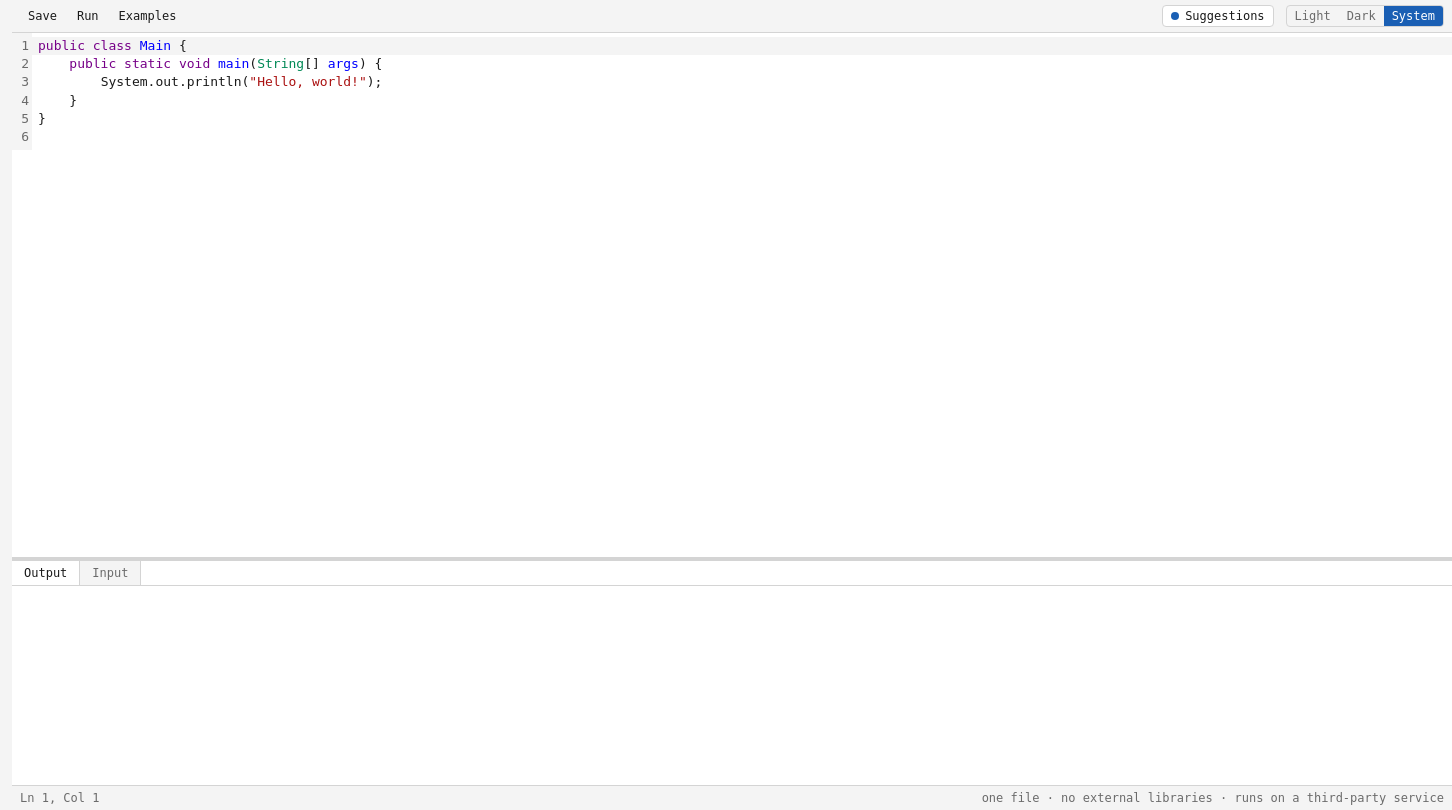
Test: Run shows stdout, exit code, timing and the engine
This screenshot has width=1452, height=810.
Click the button "Run": (88, 16) [69,4,107,28]
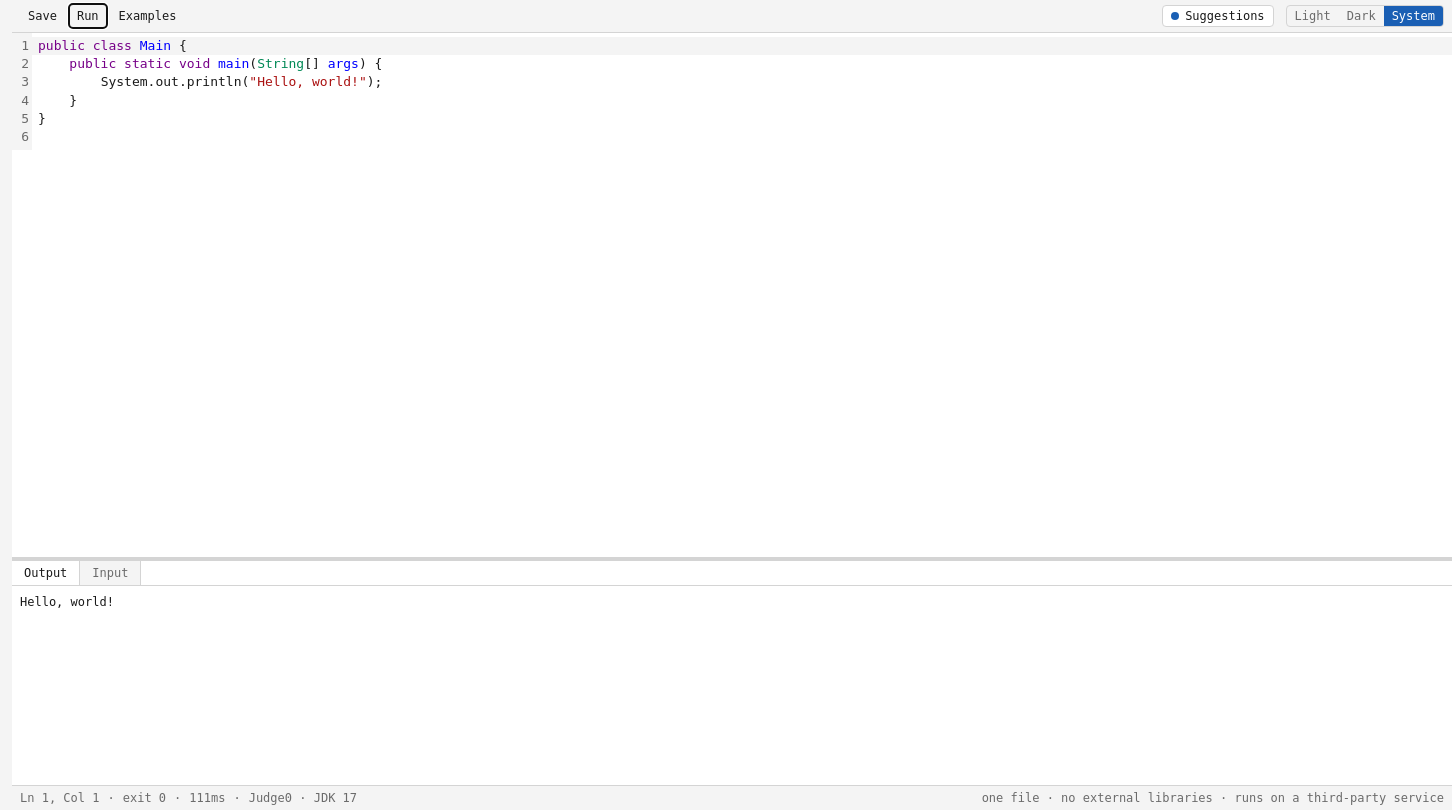
Check: the text with test id "stdout" reads "Hello, world!", box [20,595,114,609]
Check: the element with test id "status-bar" shows "exit 0", box [123,791,166,805]
Check: the element with test id "status-bar" shows "111ms", box [189,791,225,805]
